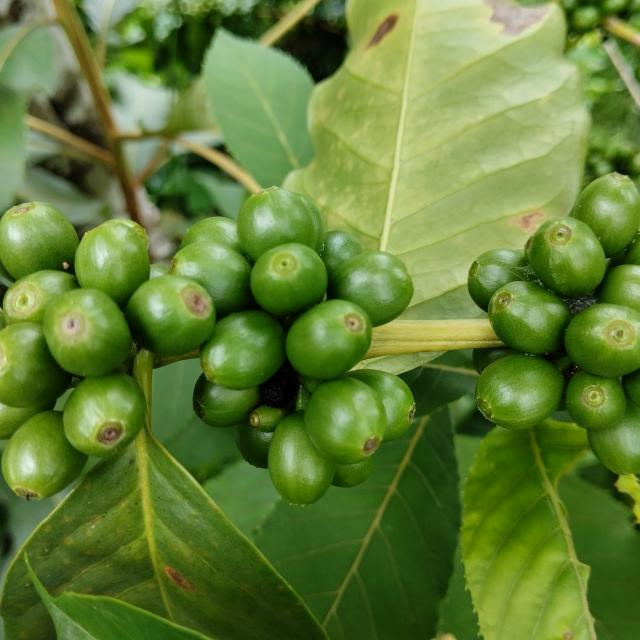green: (42, 289, 132, 377), (1, 411, 87, 501), (124, 274, 216, 357), (304, 376, 387, 465), (62, 372, 145, 457), (286, 299, 372, 381), (199, 310, 286, 390), (476, 354, 566, 431), (526, 216, 607, 298), (327, 251, 414, 327), (268, 412, 336, 506), (170, 241, 254, 317), (74, 221, 149, 306), (489, 281, 573, 354), (0, 322, 71, 408), (0, 202, 78, 279), (237, 186, 316, 261), (250, 243, 328, 317), (565, 303, 640, 378), (574, 172, 640, 257), (348, 369, 416, 442), (468, 248, 536, 312), (2, 270, 78, 325), (588, 399, 640, 475), (192, 374, 261, 428), (566, 371, 627, 430), (180, 216, 242, 252), (0, 400, 55, 440), (321, 230, 363, 279), (599, 264, 640, 312), (296, 193, 325, 254), (236, 422, 273, 469), (109, 218, 149, 250)
